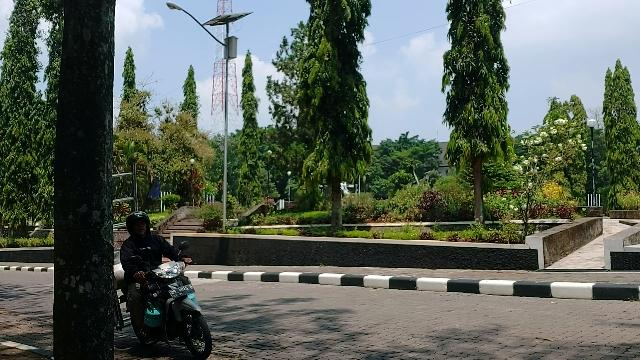helm: (126, 211, 153, 240)
motor: (115, 240, 216, 360)
